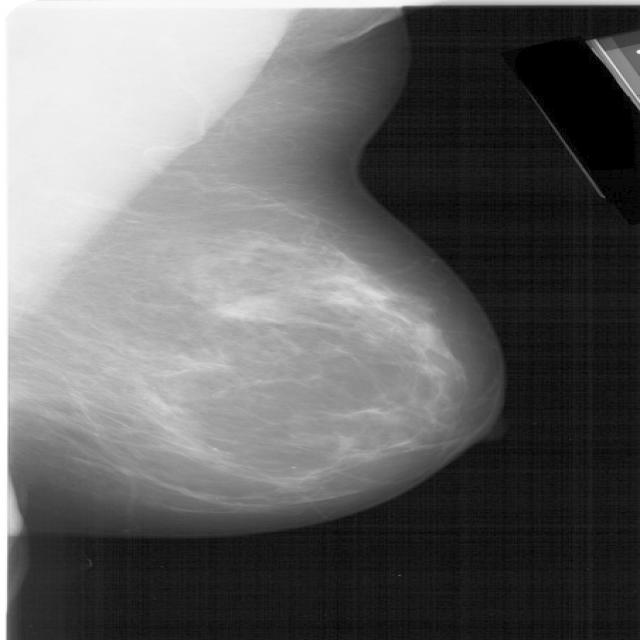tumour: (217, 293, 280, 321)
